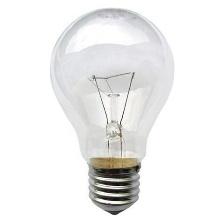light_bulb: (45, 5, 176, 217)
